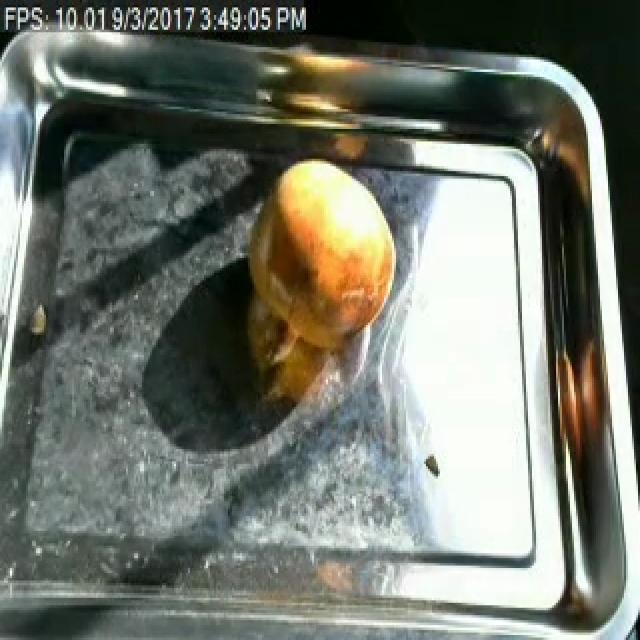fruit: (240, 146, 402, 370)
